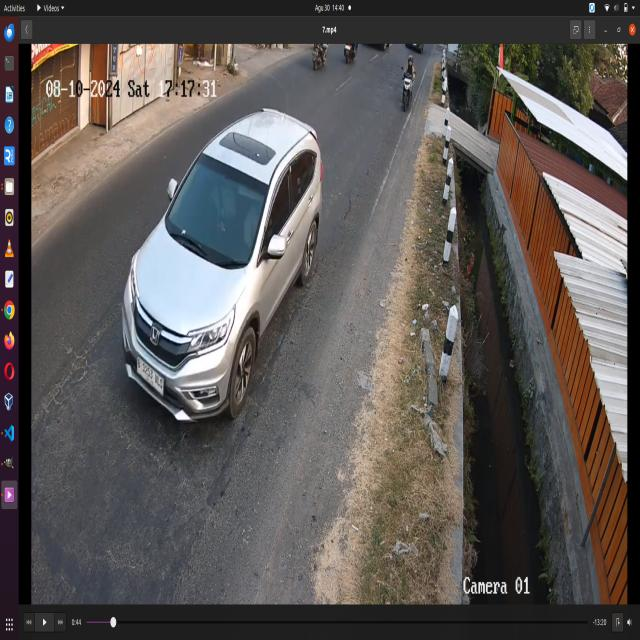person_with_seatbelt: (198, 167, 235, 230)
person_without_seatbelt: (239, 177, 273, 260)
